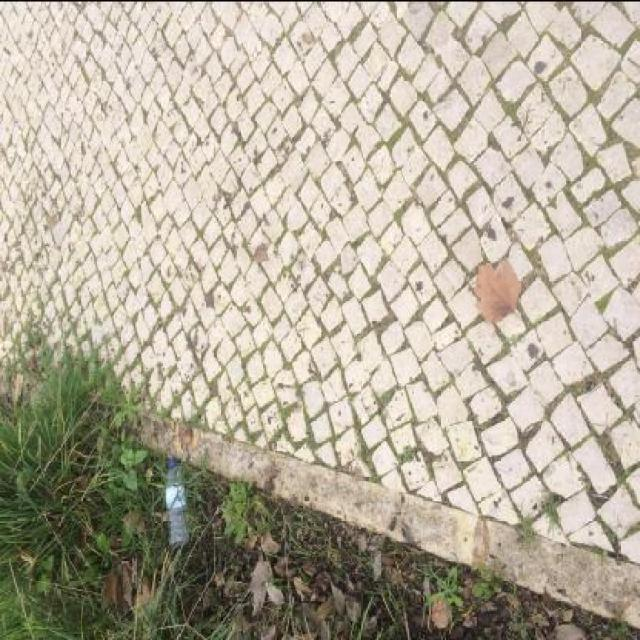plastic: (165, 456, 189, 546)
